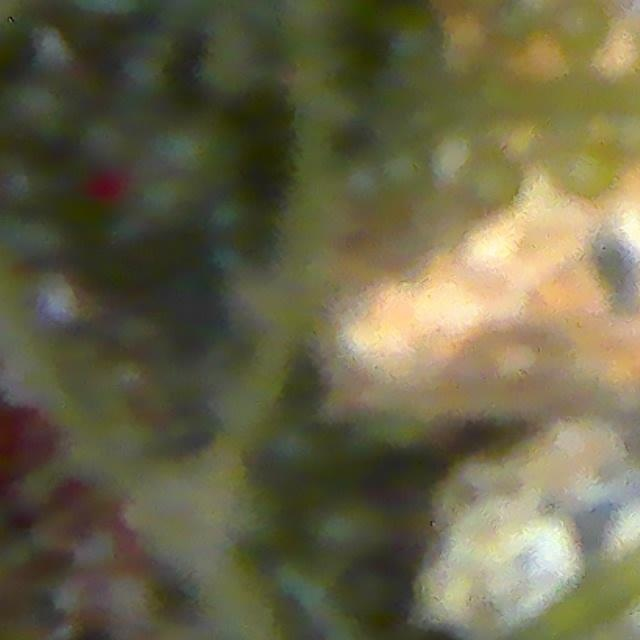SeaGrape: (465, 155, 523, 214), (554, 0, 611, 55), (557, 153, 612, 199)
